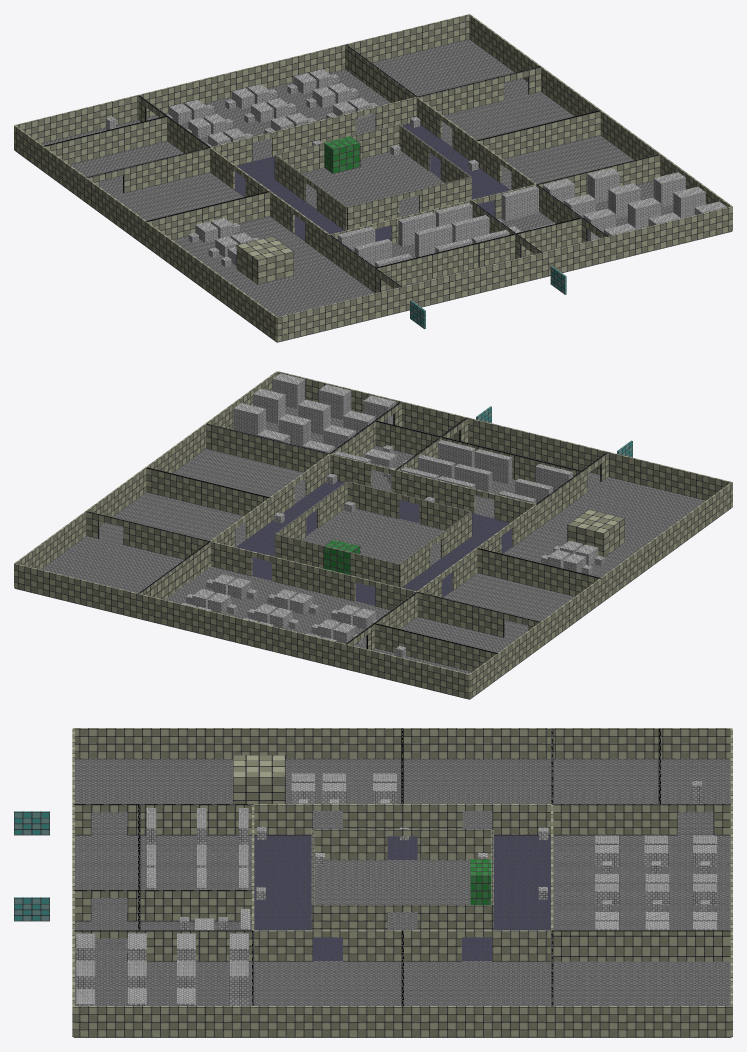
The model's file is map.fbx.
The picture shows the model from 3 angles, top to bottom: view 1: azimuth 30°, elevation 25°; view 2: azimuth 150°, elevation 25°; view 3: azimuth 270°, elevation 25°; orthographic projection. The views are drawn at different scales.
Visible parts, largest first — view 1: CamMapTest; view 2: CamMapTest; view 3: CamMapTest.
Part boxes in pixels (left/top/right/bottom): CamMapTest: left=14, top=14, right=732, bottom=342; CamMapTest: left=14, top=371, right=732, bottom=699; CamMapTest: left=14, top=728, right=732, bottom=1037.
Bounding box in the file's own units: 2761 × 145 × 3005.
